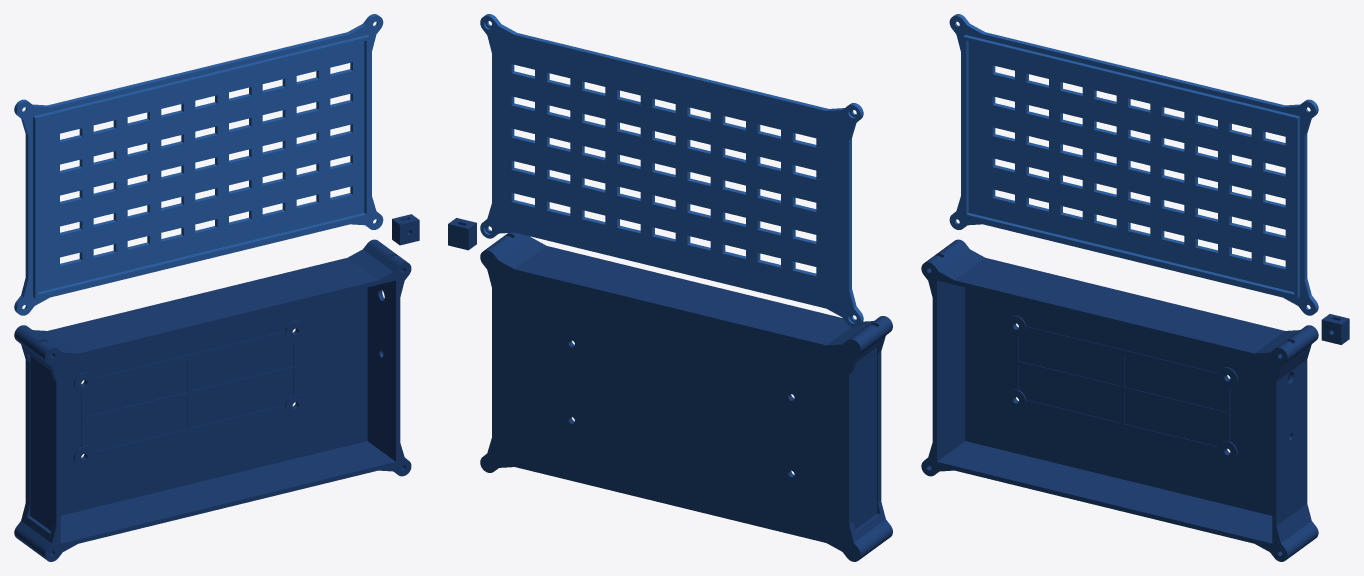
The model's file is .lrs_350_24_print_set.step.glb.
The picture shows the model from 3 angles, left to right: view 1: azimuth 30°, elevation 25°; view 2: azimuth 150°, elevation 25°; view 3: azimuth 330°, elevation 25°; orthographic projection. The views are drawn at different scales.
Parts seen in each view (by area): view 1: o1.1, o1.2, o1.3; view 2: o1.1, o1.2, o1.3; view 3: o1.1, o1.2, o1.3.
Boxes of the visible parts, bbox=[...] form: o1.1: bbox=[14, 239, 411, 561]; o1.2: bbox=[14, 14, 383, 315]; o1.3: bbox=[392, 214, 419, 245]; o1.1: bbox=[480, 232, 892, 561]; o1.2: bbox=[480, 14, 863, 327]; o1.3: bbox=[448, 218, 476, 250]; o1.1: bbox=[921, 239, 1318, 561]; o1.2: bbox=[949, 14, 1318, 315]; o1.3: bbox=[1321, 314, 1349, 344].
Size of the model in its own units: 0.282 by 0.298 by 0.038.
